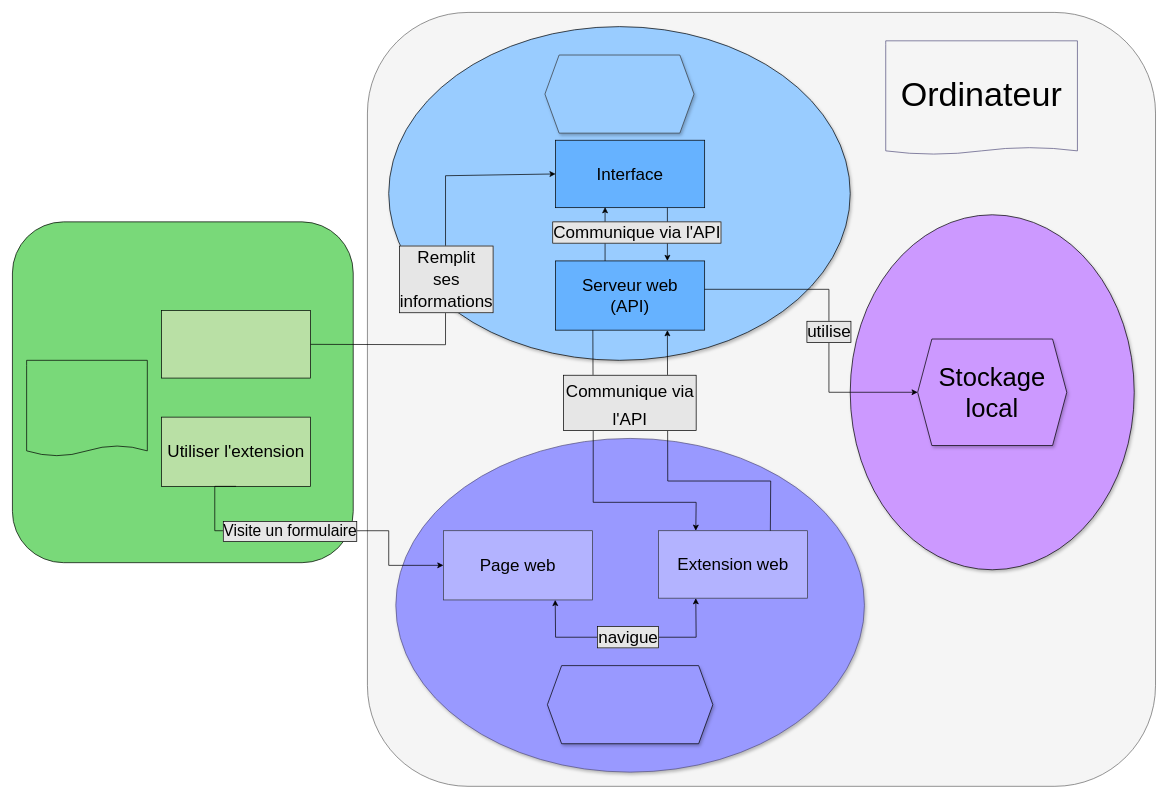
Image size: 1168x799. Some labels were removed from this diagram. Each missing label, with the centre of its shape:
"Application" belongs at pixel 619 94.
"Navigateur" belongs at pixel 630 705.
"Remplir ses informations" belongs at pixel 236 344.
"Utilisateur" belongs at pixel 86 408.
